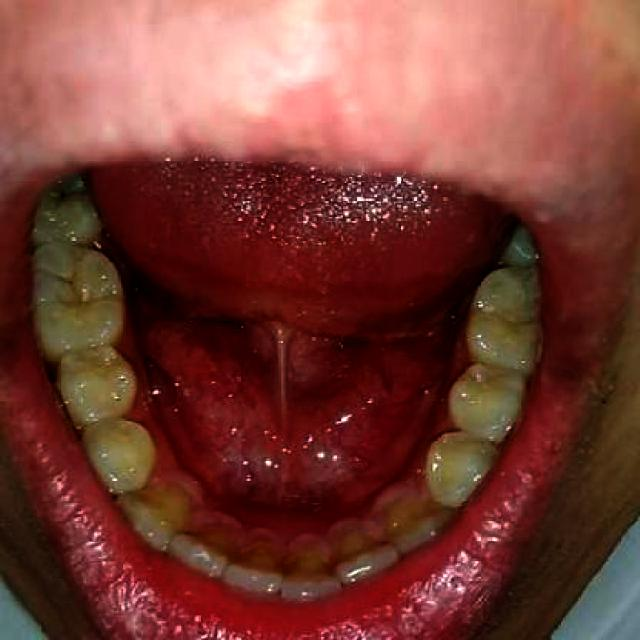Plaque: (52, 186, 86, 211), (45, 270, 80, 288)
